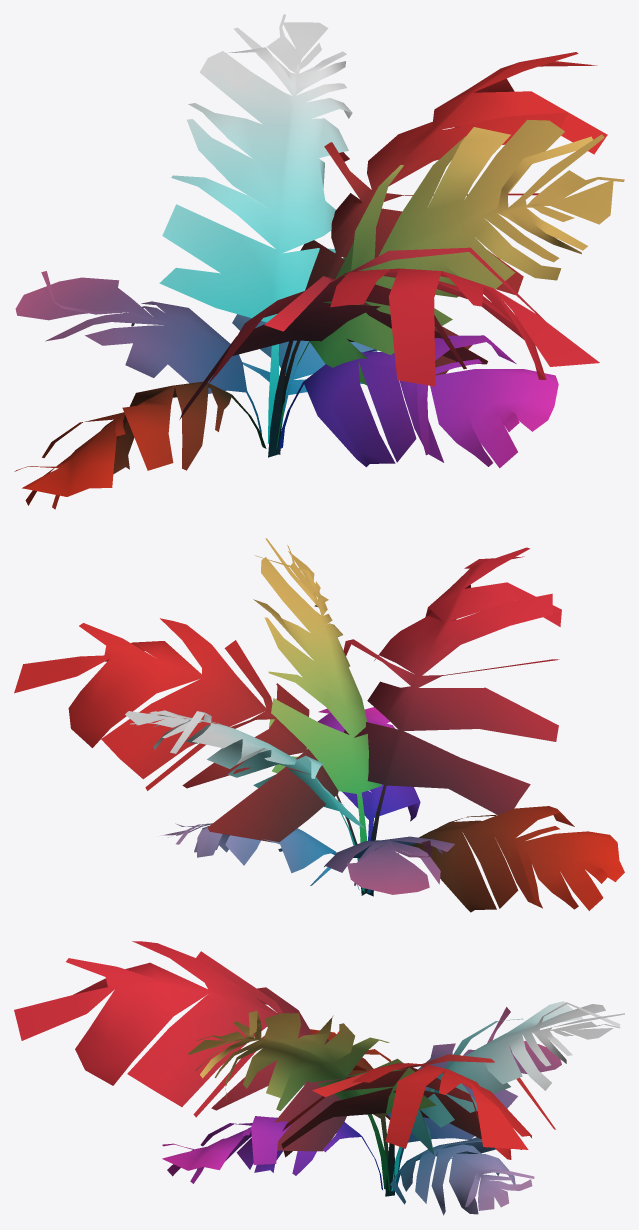
File: Tropical_Palm_rkqjj_Low_rkqjj_VarC_LOD0.fbx
3 views of the same model, one above another, from view 1: azimuth 30°, elevation 25°; view 2: azimuth 150°, elevation 25°; view 3: azimuth 270°, elevation 25° (orthographic). The views are drawn at different scales.
Parts seen in each view (by area): view 1: _3249_VarC_LOD2; view 2: _3249_VarC_LOD2; view 3: _3249_VarC_LOD2.
Boxes of the visible parts, left/top/right/bottom form: _3249_VarC_LOD2: left=14, top=14, right=624, bottom=509; _3249_VarC_LOD2: left=14, top=538, right=624, bottom=912; _3249_VarC_LOD2: left=14, top=941, right=624, bottom=1215.
Bounding box in the file's own units: 330 × 157 × 331.
